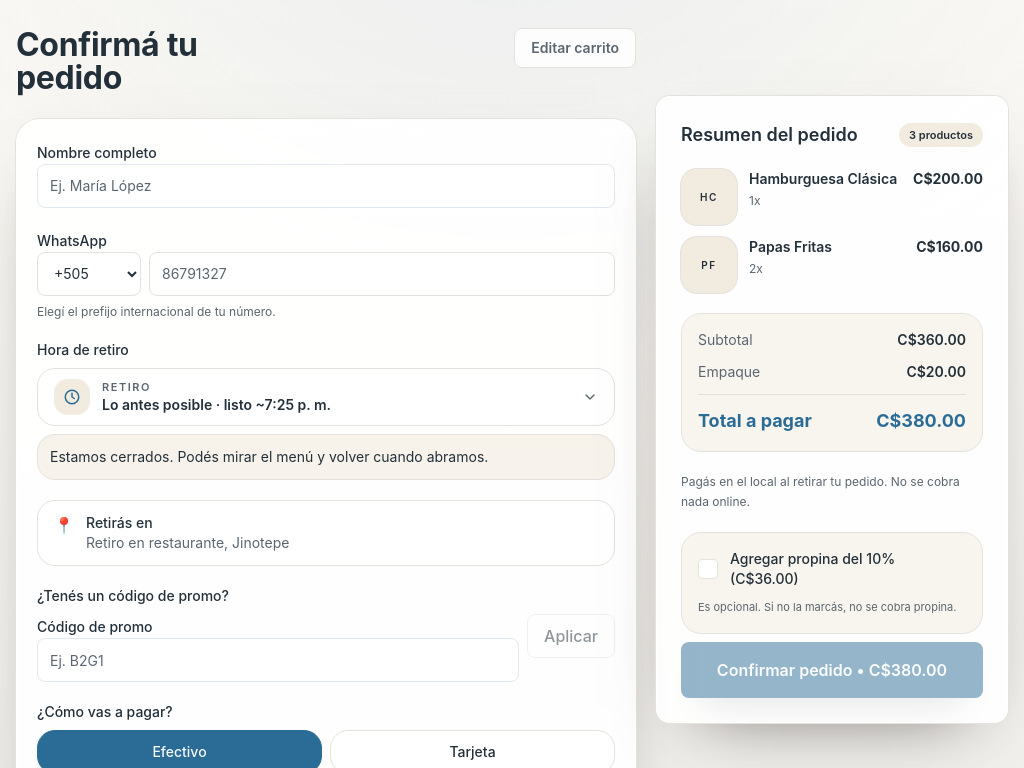
Scenario: checkout sin redundancias › con el local cerrado hoy se puede programar para otro día
The image size is (1024, 768).
Click the button "Retiro Lo antes posible · listo ~7:25 p. m." at (326, 397), box [37,368,615,426]
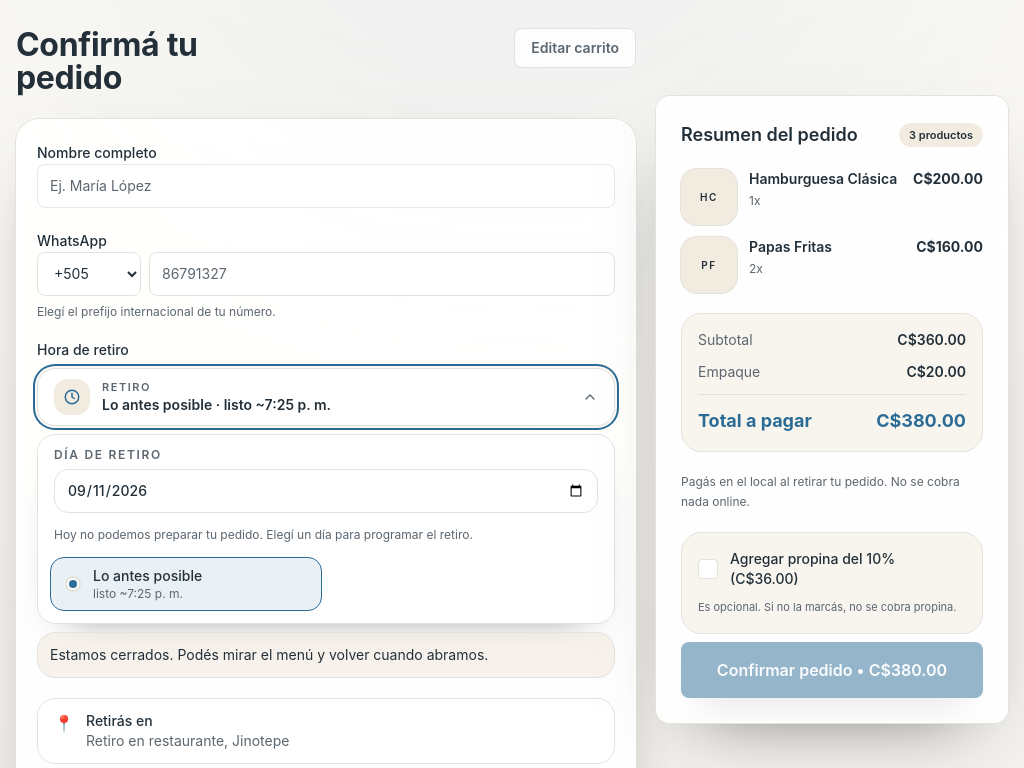
Expected: the button "Confirmar pedido • C$380.00" is disabled, [681,642,983,698]
Expected: the text "Hoy no podemos preparar tu pedido" is shown, [54,527,473,542]
Se elige mañana (sábado, abierto): el día trae su primer turno y se puede confirmar.
Type "2026-09-12" into the date field labelled "Día de retiro" at (326, 491), box [54,469,598,513]
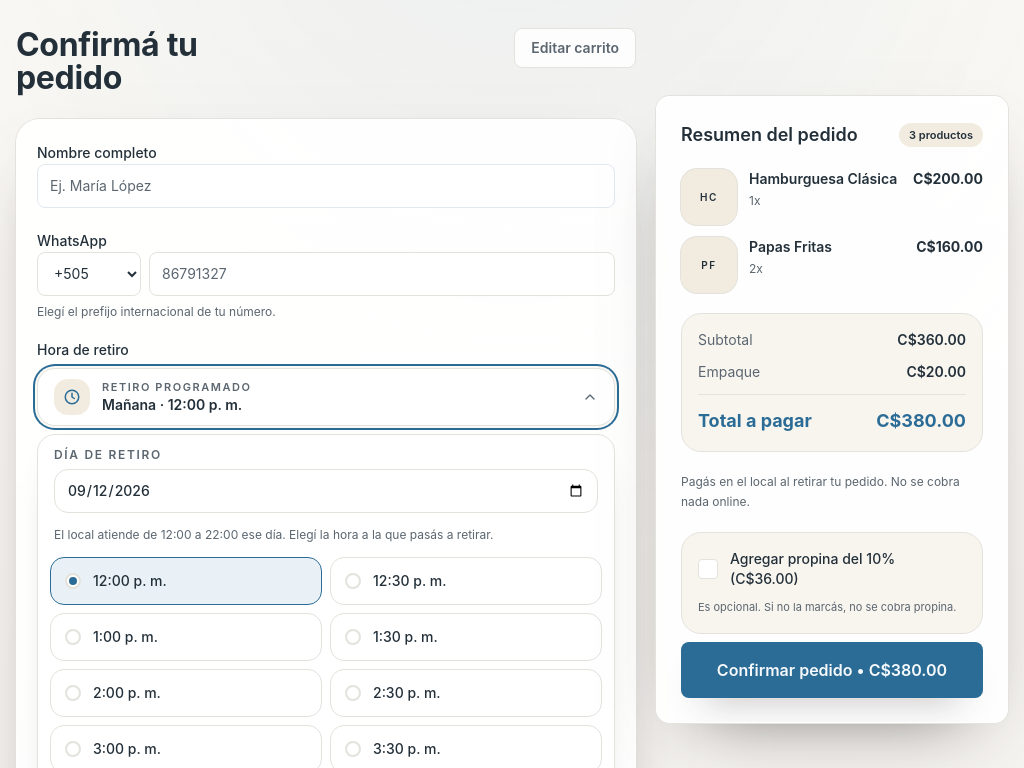
Expected: the button "Confirmar pedido • C$380.00" is enabled, [681,642,983,698]
